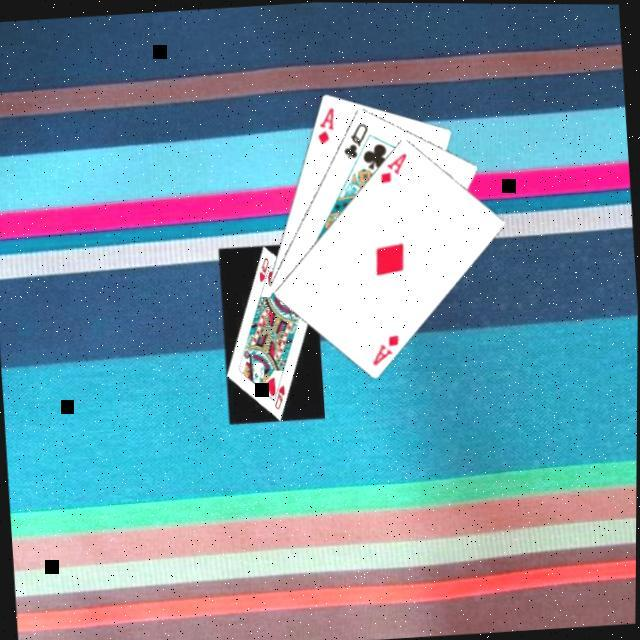AD: (366, 332, 402, 369), (374, 150, 409, 188), (310, 104, 338, 148)
QC: (336, 119, 370, 163)
